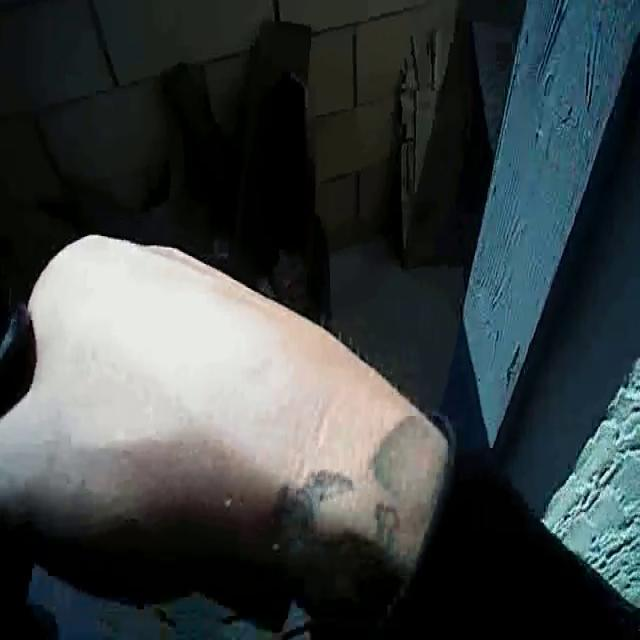gun: (0, 292, 76, 446)
